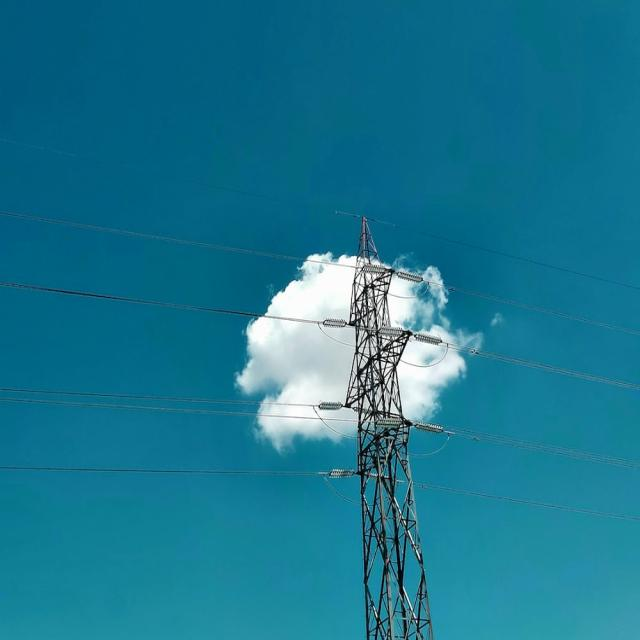transmission tower: (266, 170, 482, 630)
